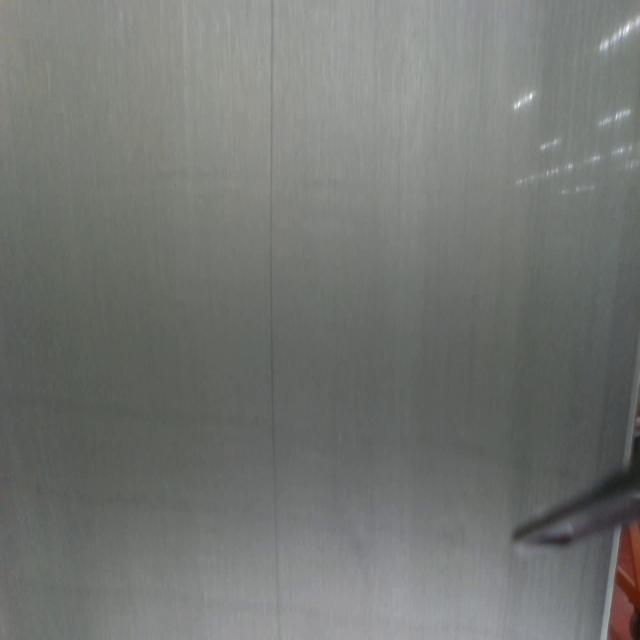crease: (268, 1, 283, 640)
